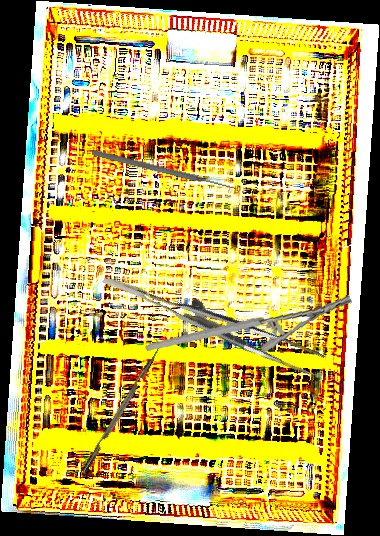Chopper: (74, 338, 167, 473)
Needle Holder: (144, 273, 354, 372)
Pusher: (91, 148, 237, 193)
Tissue Forceps: (102, 241, 325, 397)
